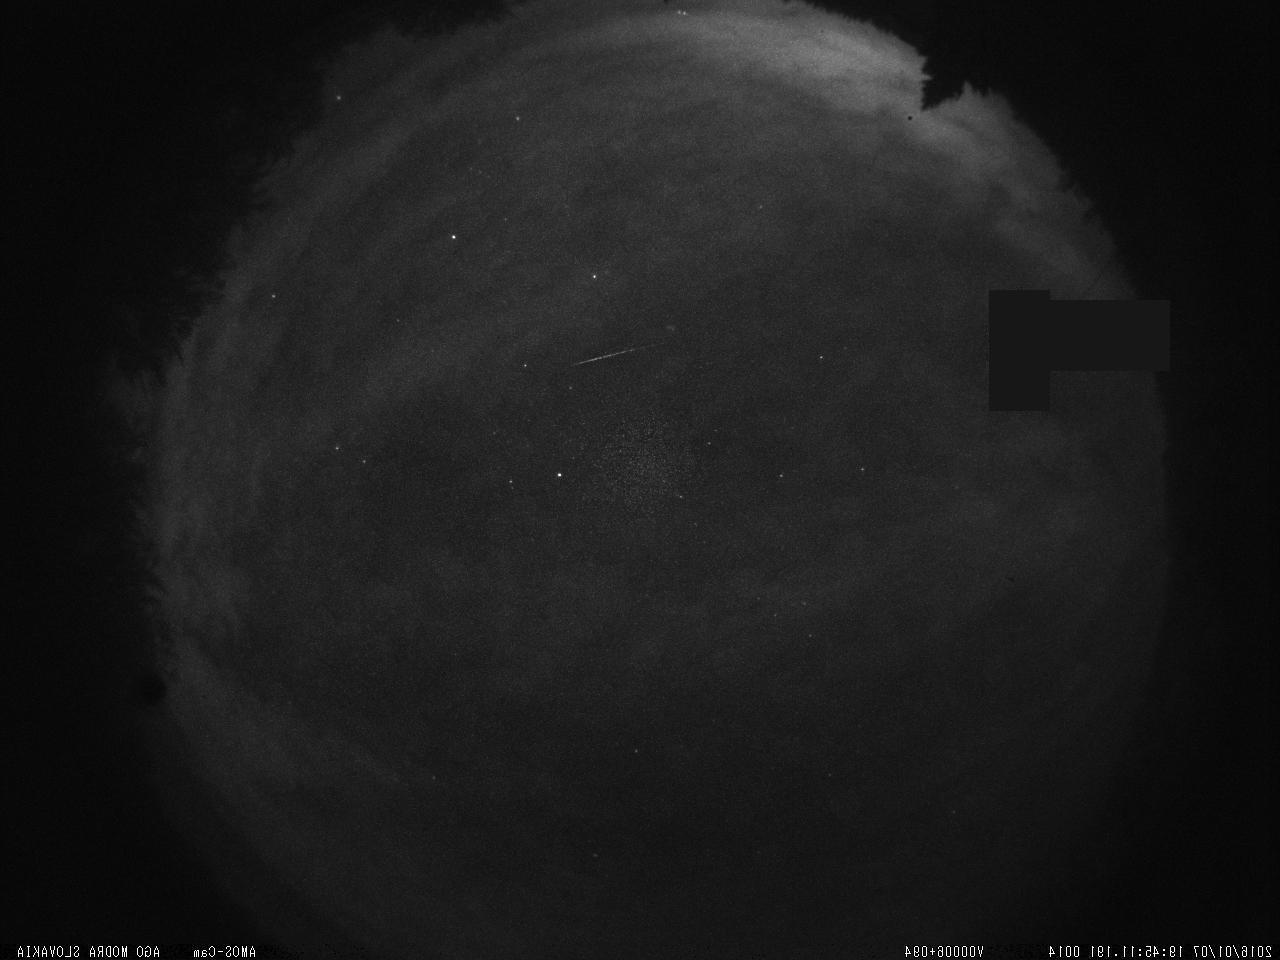meteor: (567, 333, 674, 372)
